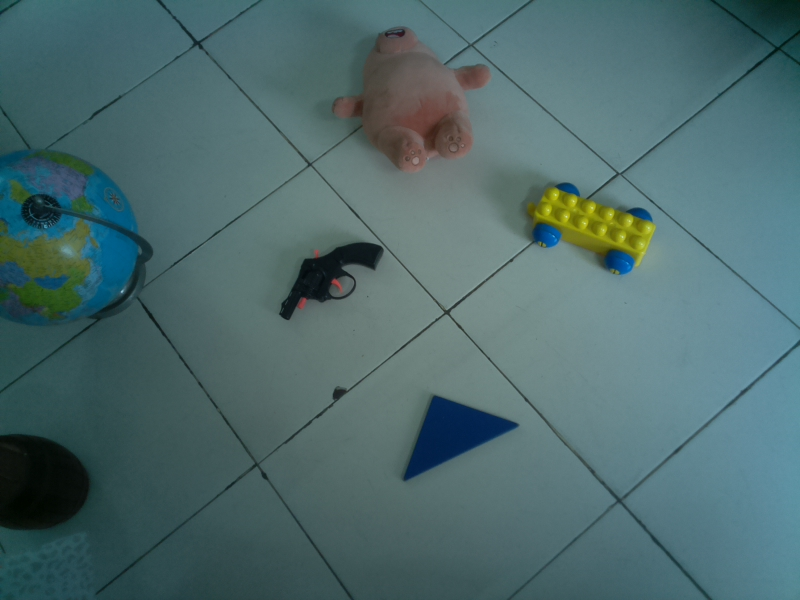Gun: (278, 241, 387, 324)
Triangle: (402, 393, 522, 483)
toy_Car: (521, 182, 658, 279)
